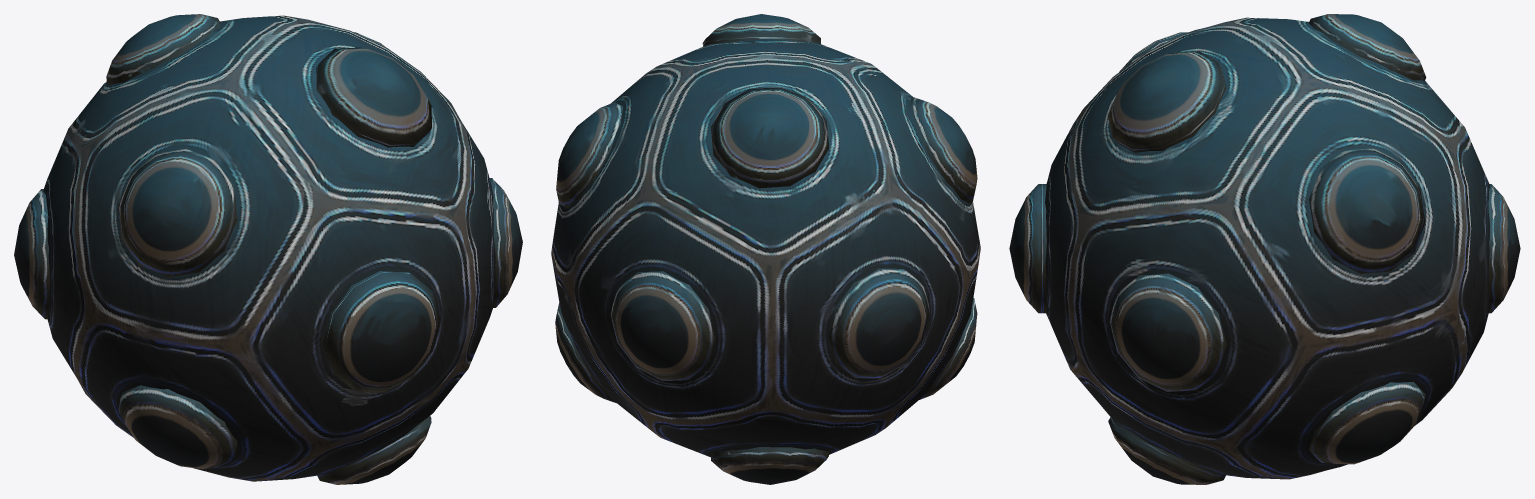
Rendered from bomb.fbx.
The picture shows the model from 3 angles, left to right: view 1: azimuth 30°, elevation 25°; view 2: azimuth 150°, elevation 25°; view 3: azimuth 270°, elevation 25°; orthographic projection. The views are drawn at different scales.
Visible parts, largest first — view 1: bomb; view 2: bomb; view 3: bomb.
Part boxes in pixels (left/top/right/bottom): bomb: left=14, top=14, right=522, bottom=484; bomb: left=551, top=14, right=980, bottom=484; bomb: left=1009, top=14, right=1520, bottom=484.
Bounding box in the file's own units: 330 × 327 × 360.
1 material, 1 textured.
